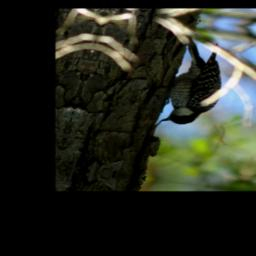Woodpecker: (157, 36, 238, 129)
